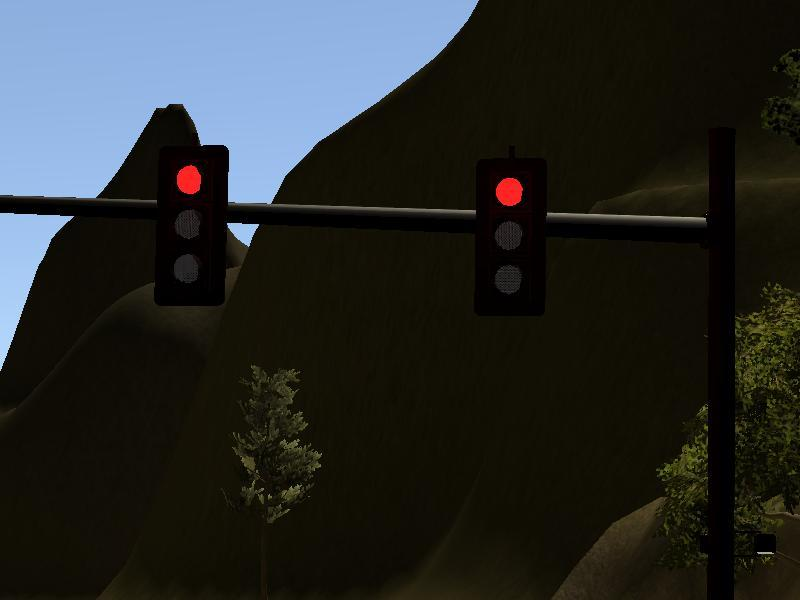Red: (155, 146, 226, 305), (475, 158, 545, 315)
